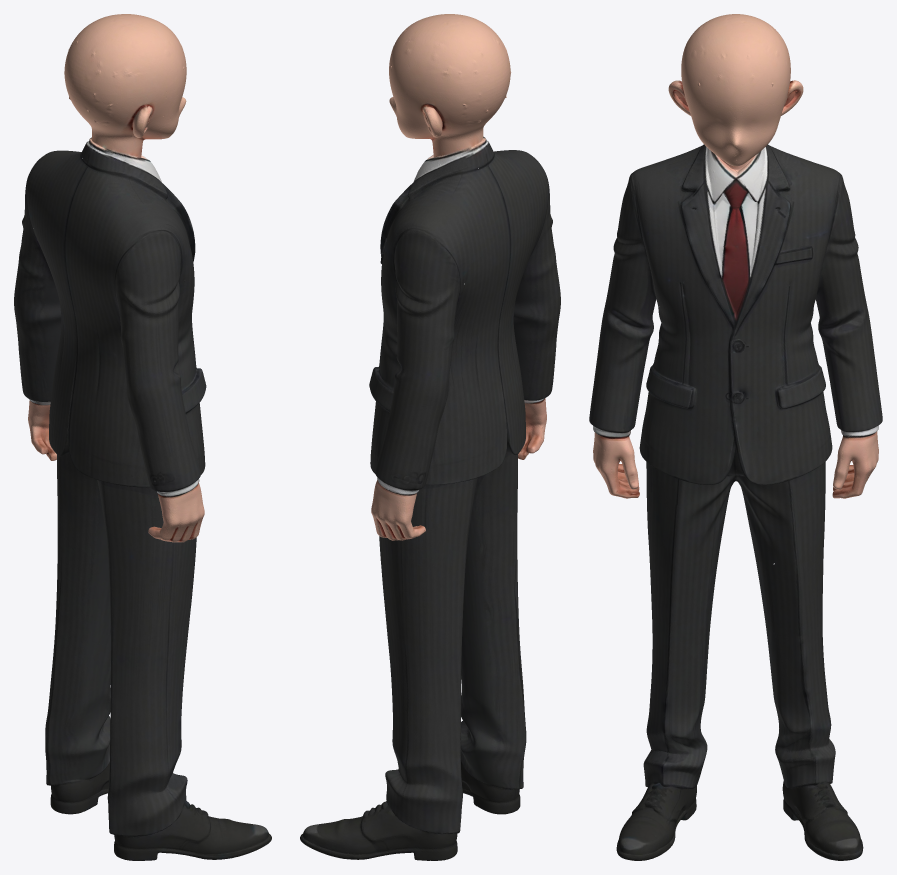
Rendered from businessman+suit+3d+model.glb.
3 renders of one model, left to right at view 1: azimuth 30°, elevation 25°; view 2: azimuth 150°, elevation 25°; view 3: azimuth 270°, elevation 25°, orthographic.
Parts seen in each view (by area): view 1: tripo_node_b656c811-ce25-455a-a0e6-0065fb8dcb4f; view 2: tripo_node_b656c811-ce25-455a-a0e6-0065fb8dcb4f; view 3: tripo_node_b656c811-ce25-455a-a0e6-0065fb8dcb4f.
Boxes of the visible parts, x1=… form: tripo_node_b656c811-ce25-455a-a0e6-0065fb8dcb4f: x1=14, y1=14, x2=271, y2=860; tripo_node_b656c811-ce25-455a-a0e6-0065fb8dcb4f: x1=300, y1=14, x2=560, y2=860; tripo_node_b656c811-ce25-455a-a0e6-0065fb8dcb4f: x1=589, y1=14, x2=882, y2=860.
Size of the model in its own units: 0.1988 by 1 by 0.3329.
Materials: 1 (1 with a texture image).
